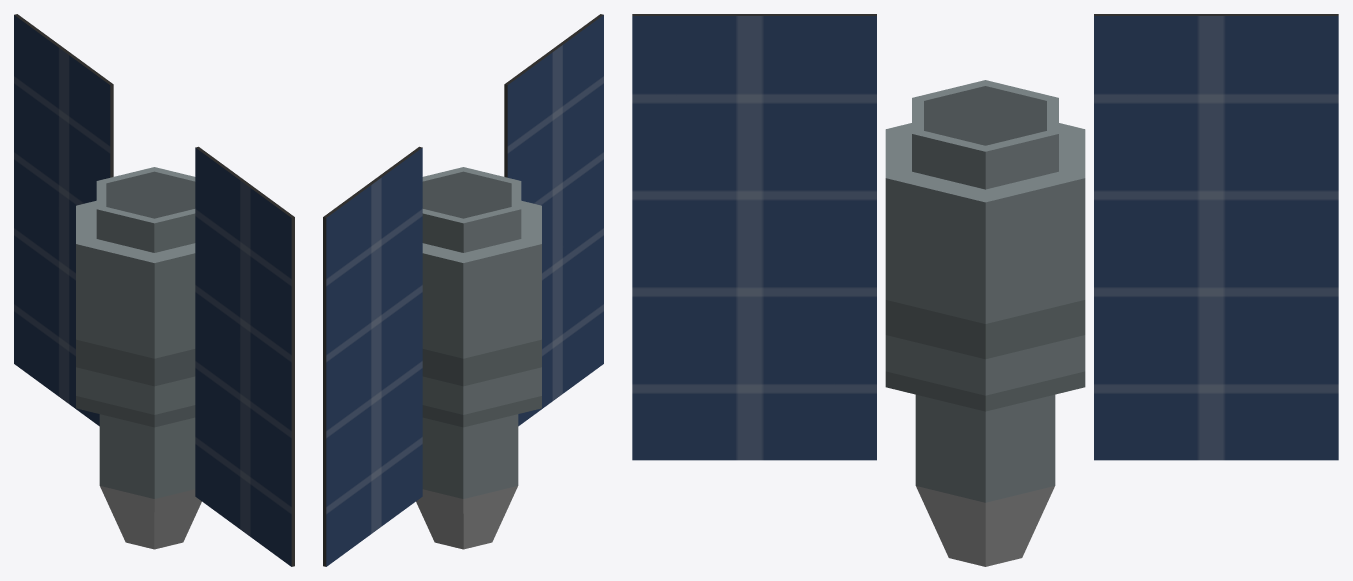
File: SM_Veh_Satellite_03.fbx
3 renders of one model, left to right at view 1: azimuth 30°, elevation 25°; view 2: azimuth 150°, elevation 25°; view 3: azimuth 270°, elevation 25°, orthographic. The views are drawn at different scales.
Parts seen in each view (by area): view 1: SM_Veh_Satellite_03; view 2: SM_Veh_Satellite_03; view 3: SM_Veh_Satellite_03.
Boxes of the visible parts, bbox=[...] form: SM_Veh_Satellite_03: bbox=[14, 14, 294, 566]; SM_Veh_Satellite_03: bbox=[323, 14, 603, 566]; SM_Veh_Satellite_03: bbox=[632, 14, 1338, 566].
Bounding box in the file's own units: 1.03 × 2.62 × 3.14.
